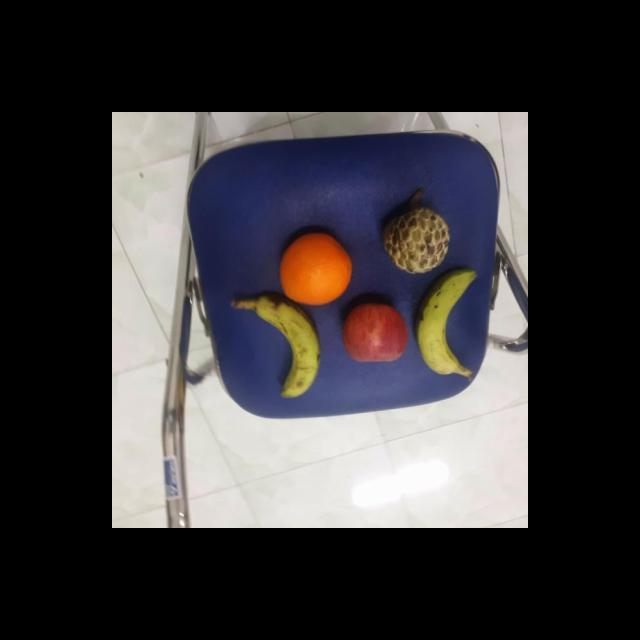Sakya fruit: (380, 206, 451, 275)
apple: (341, 300, 408, 366)
banana: (247, 293, 330, 402), (413, 267, 480, 380)
orange: (276, 228, 352, 306)
